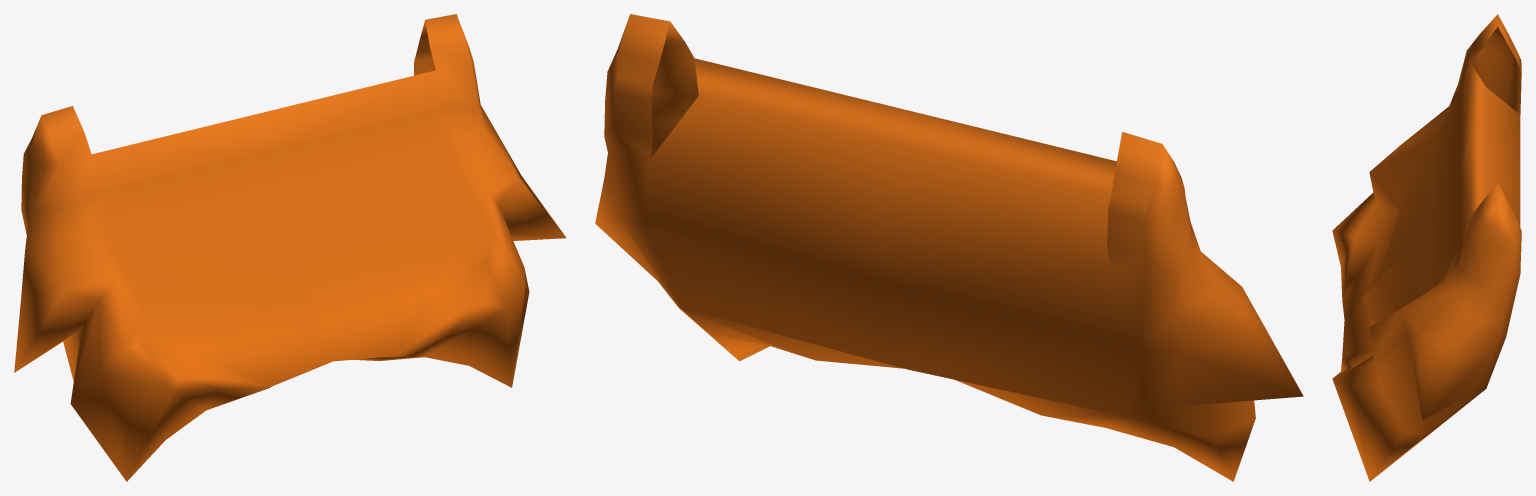
Rendered from Beard_Orange_11.fbx.
The picture shows the model from 3 angles, left to right: view 1: azimuth 30°, elevation 25°; view 2: azimuth 150°, elevation 25°; view 3: azimuth 270°, elevation 25°; orthographic projection. The views are drawn at different scales.
Visible parts, largest first — view 1: Beard_Orange_11; view 2: Beard_Orange_11; view 3: Beard_Orange_11.
Boxes of the visible parts, <box> form: Beard_Orange_11: <box>14,14,566,481</box>; Beard_Orange_11: <box>595,14,1303,481</box>; Beard_Orange_11: <box>1332,14,1521,481</box>.
Bounding box in the file's own units: 66 × 36.6 × 21.51.
